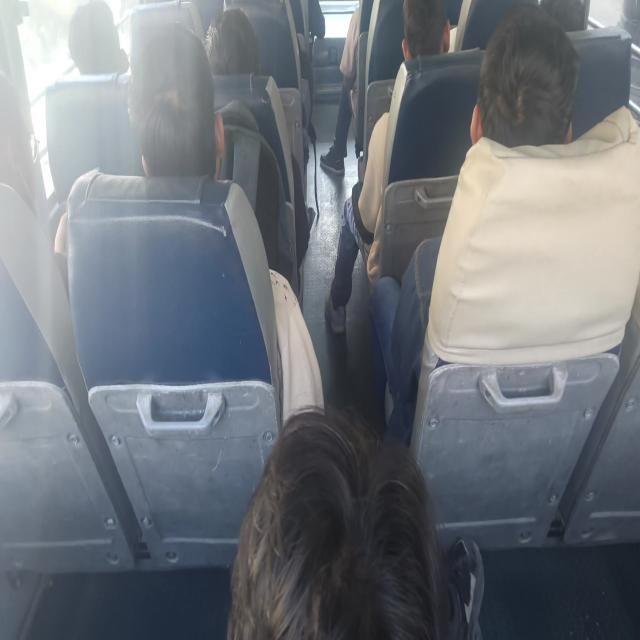person: (232, 424, 460, 640), (472, 27, 572, 171), (136, 35, 226, 181), (0, 87, 46, 199), (202, 11, 264, 88), (64, 8, 120, 76), (394, 5, 456, 66), (522, 0, 596, 36)
